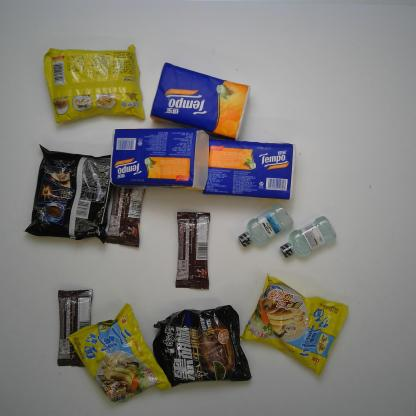Chocolate: (57, 289, 94, 367), (175, 210, 211, 290), (105, 187, 146, 248)
Instant Noodles: (239, 274, 349, 378), (67, 303, 172, 403), (23, 144, 111, 244), (152, 304, 252, 387), (43, 44, 146, 124)
Personal Hygiene: (238, 203, 294, 248), (279, 215, 337, 258)
Tissue: (149, 62, 251, 141), (110, 128, 210, 190), (202, 138, 296, 200)
